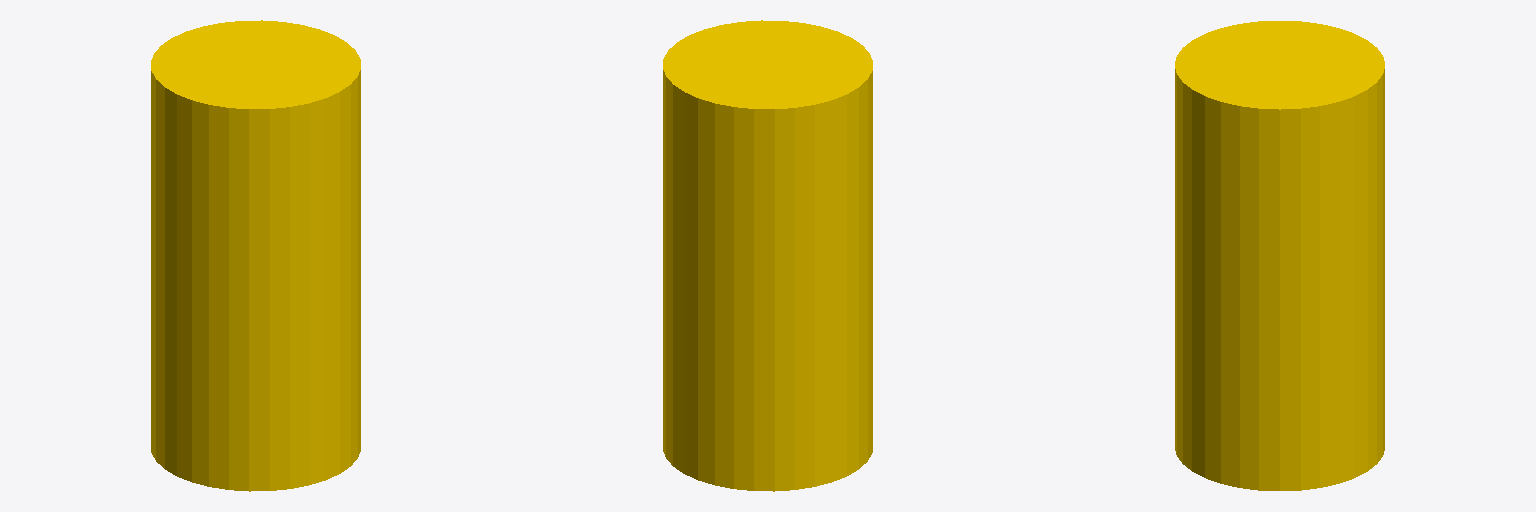
The robot description file, URDF, robot "myfirst":
<?xml version="1.0"?>
 <robot name="myfirst">
 
   <material name="golden">
     <color rgba="1 0.843 0 1"/>
   </material>
   
   <link name="base_link">
     <visual>
       <geometry>
         <cylinder length="0.12" radius="0.03"/>
       </geometry>
       <material name="golden"/>
     </visual>

     <inertial>
       <mass value="0"/>
       <inertia ixx="0.0" ixy="0.0" ixz="0.0" iyy="0.0" iyz="0.0" izz="0.0"/>
     </inertial>

   </link>

 </robot>

--- Render facts (derived) ---
3 views of the same robot in one strip: view 1: azimuth 30°, elevation 25°; view 2: azimuth 150°, elevation 25°; view 3: azimuth 270°, elevation 25° (orthographic).
Model myfirst with 1 links and 0 joints (none), rooted at base_link, posed all joints at 0.
Links seen in each view (by area): view 1: base_link; view 2: base_link; view 3: base_link.
Boxes of the visible links, x1,y1,x2,y2 form: base_link: (151, 20, 360, 491); base_link: (663, 20, 872, 491); base_link: (1175, 21, 1384, 490).
Bounding box of the posed robot: 0.06 × 0.06 × 0.12 m (x, y, z).
Geometry: primitives only (box / cylinder / sphere), no mesh files.
